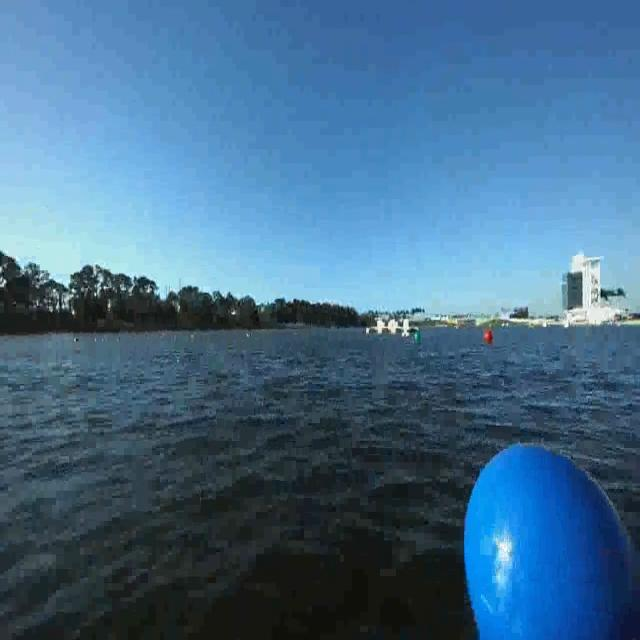blue-buoy: (457, 431, 640, 640)
green-buoy: (414, 330, 422, 346)
red-buoy: (484, 329, 494, 346)
